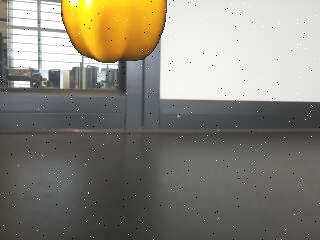Capsicum: (59, 0, 169, 65)
